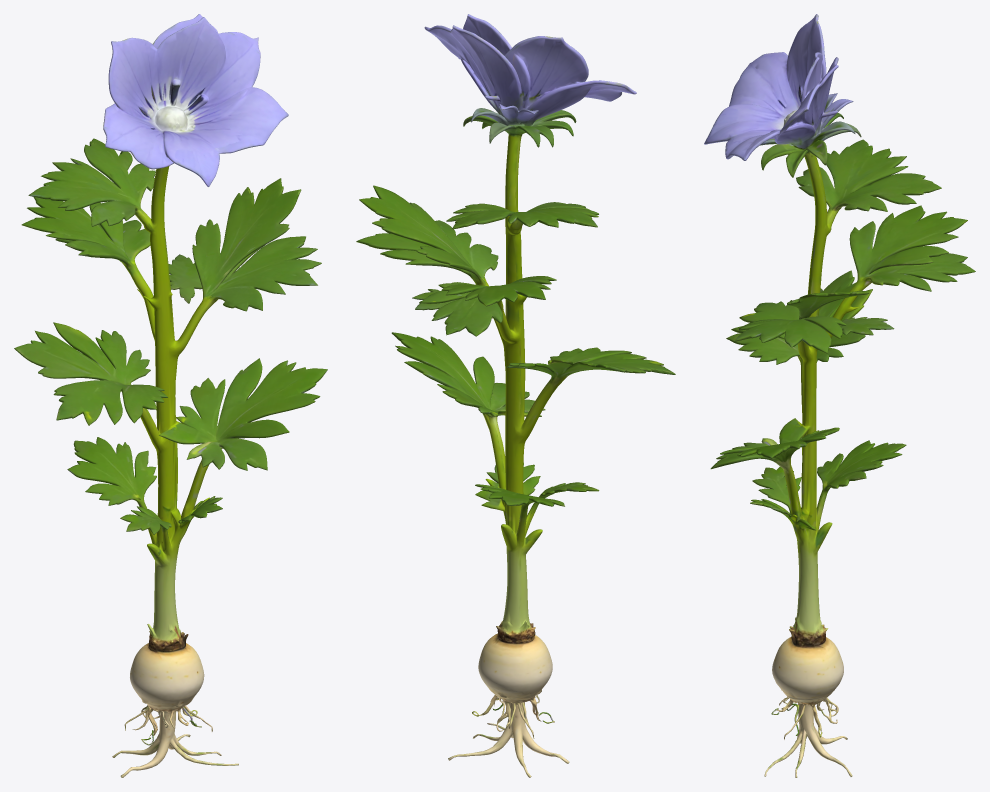
The model's file is jiegeng.glb.
The picture shows the model from 3 angles, left to right: view 1: azimuth 30°, elevation 25°; view 2: azimuth 150°, elevation 25°; view 3: azimuth 270°, elevation 25°; orthographic projection. The views are drawn at different scales.
Visible parts, largest first — view 1: node_0; view 2: node_0; view 3: node_0.
Part boxes in pixels (bbox=[...]): node_0: bbox=[14, 14, 327, 777]; node_0: bbox=[356, 14, 675, 777]; node_0: bbox=[704, 14, 975, 777].
Bounding box in the file's own units: 0.4788 × 1.18 × 0.4044.
Materials: 1 (1 with a texture image).
